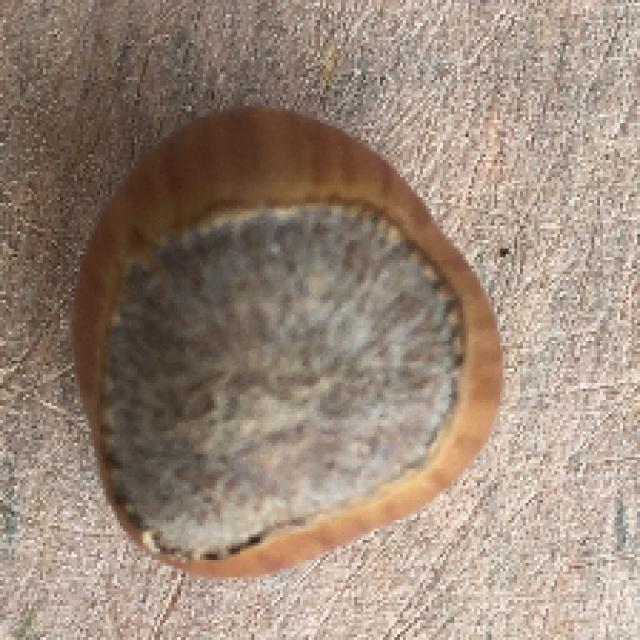qualityHazelnut: (79, 104, 507, 589)
